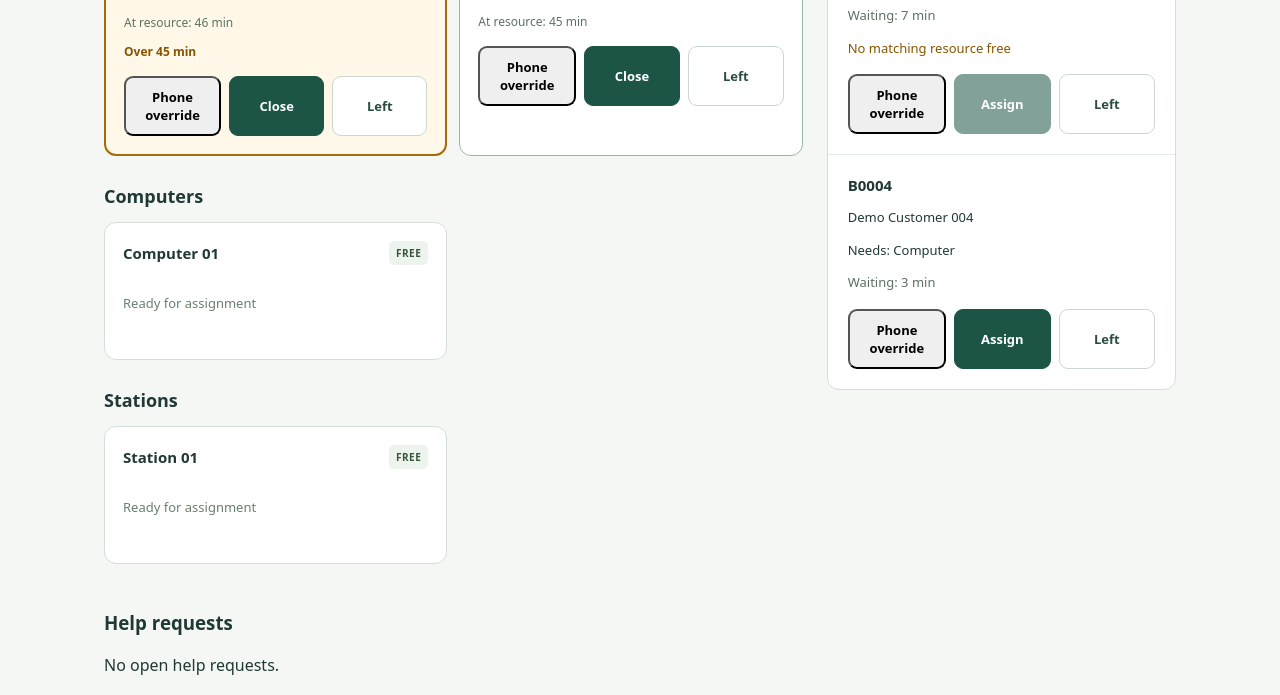
it: failed assignment keeps the visit waiting and refreshes changed resource availability
(page scrolled)
Click the button with aria-label "Assign B0004" at (1002, 339), box [954,309,1051,369]
(page scrolled)
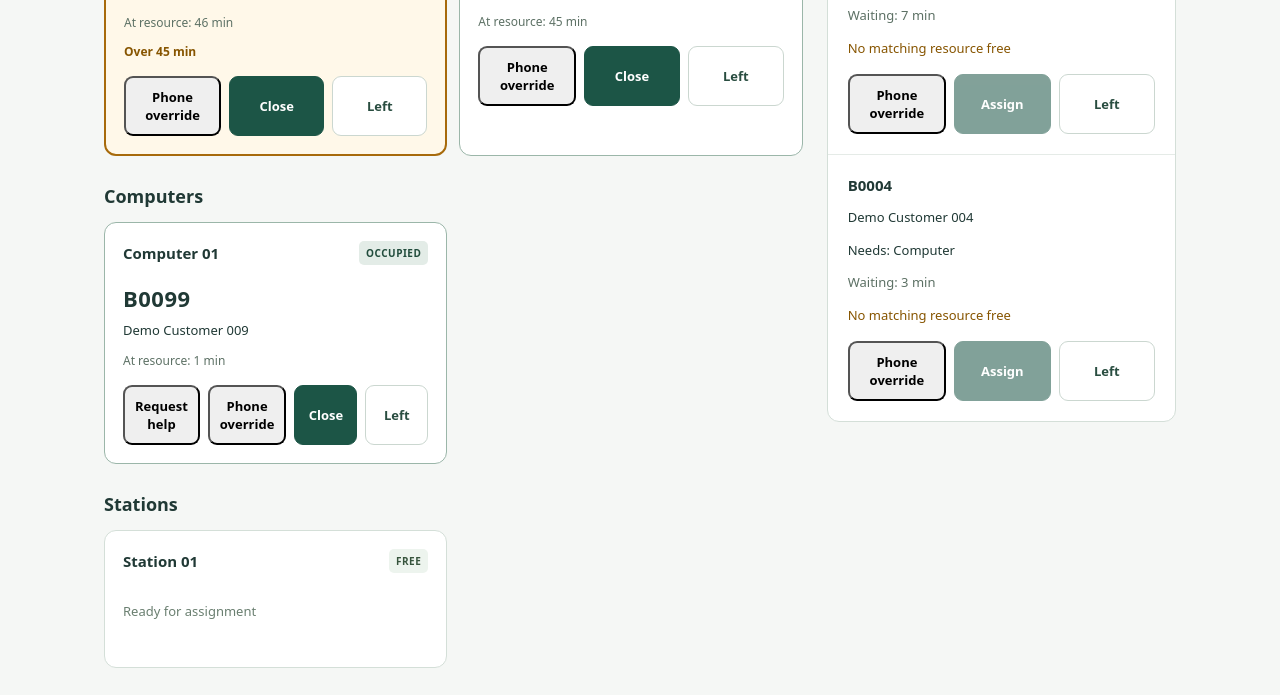
Expected: the element named "Waiting B0004" is shown, [828,155,1175,421]
Expected: the button with aria-label "Close B0099" is shown, [294,385,357,445]
Expected: the button with aria-label "Assign B0004" is disabled, [954,341,1051,401]
